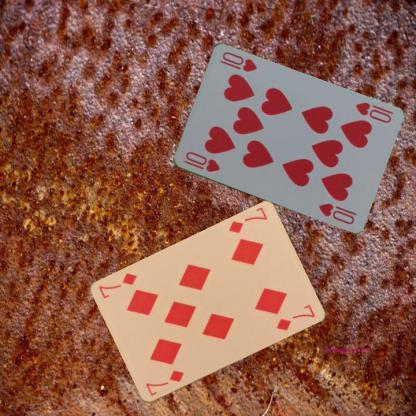10h: (180, 148, 222, 174), (352, 99, 392, 125)
7d: (142, 368, 186, 398), (225, 205, 269, 235)
